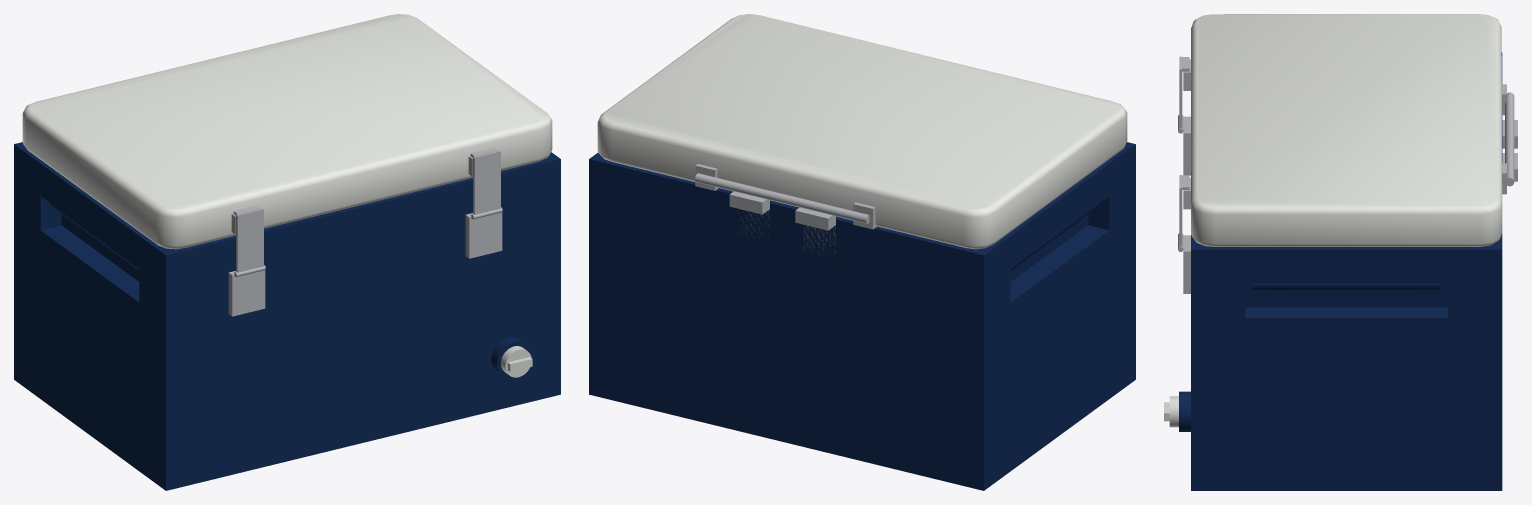
File: cooler.glb
The picture shows the model from 3 angles, left to right: view 1: azimuth 30°, elevation 25°; view 2: azimuth 150°, elevation 25°; view 3: azimuth 270°, elevation 25°; orthographic projection. The views are drawn at different scales.
Visible parts, largest first — view 1: shell, lid, latch_right, latch_left; view 2: shell, lid; view 3: shell, lid, latch_left, latch_right.
Part boxes in pixels (x1,y1,x2,y2): shell: (14,142,560,490); lid: (22,14,552,249); latch_right: (470,147,502,219); latch_left: (233,205,265,277); shell: (589,142,1135,490); lid: (597,14,1127,249); shell: (1164,52,1517,490); lid: (1183,14,1514,246); latch_left: (1178,56,1189,133); latch_right: (1178,175,1189,251).
Bounding box in the file's own units: 0.6 × 0.4 × 0.4545.
